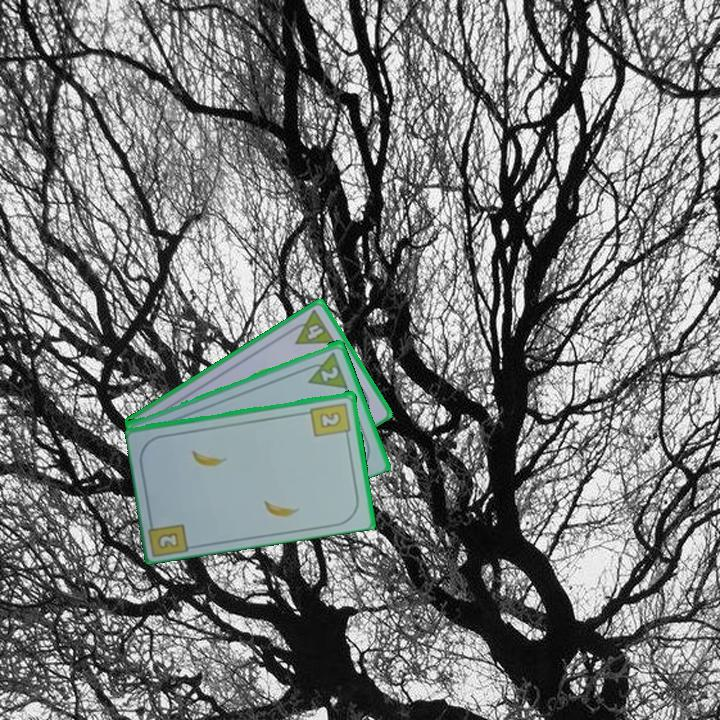2b: (308, 399, 353, 441), (156, 529, 182, 550)
2p: (300, 348, 350, 391)
4p: (285, 306, 338, 348)
